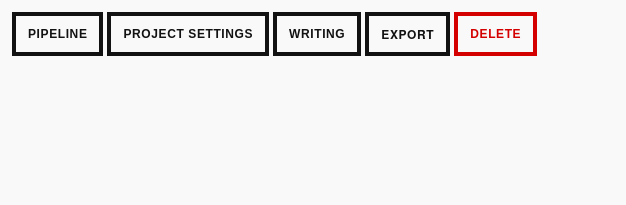
ProjectActions › project settings › opens only one menu at a time
The width and height of the screenshot is (626, 205).
Click the button "Pipeline": (58, 34) [12,12,104,56]
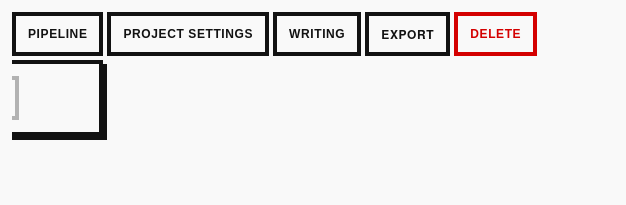
Click the button "Project settings": (188, 34) [108,12,269,56]
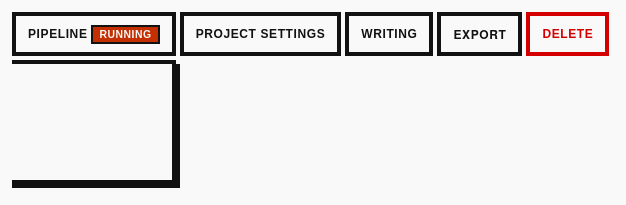
Check: the button "Run full pipeline" is gone
